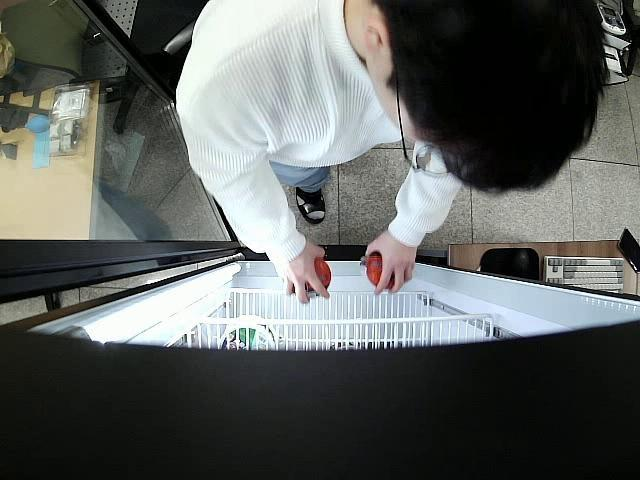02_shinRamen_S: (292, 256, 331, 301), (360, 252, 397, 290)
